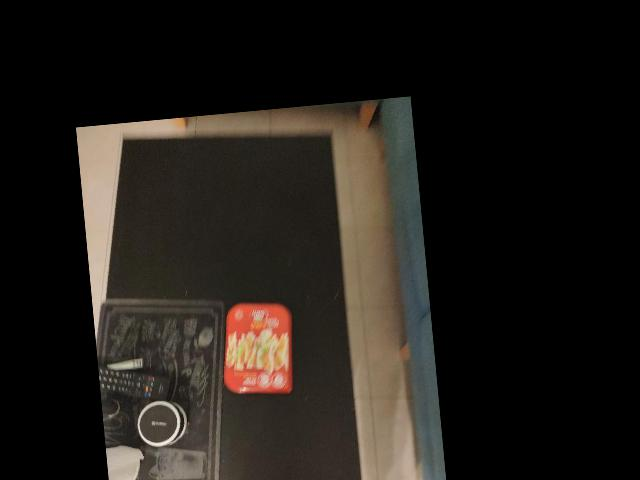cheese: (213, 295, 298, 401)
